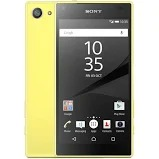sony: (54, 1, 134, 158)
